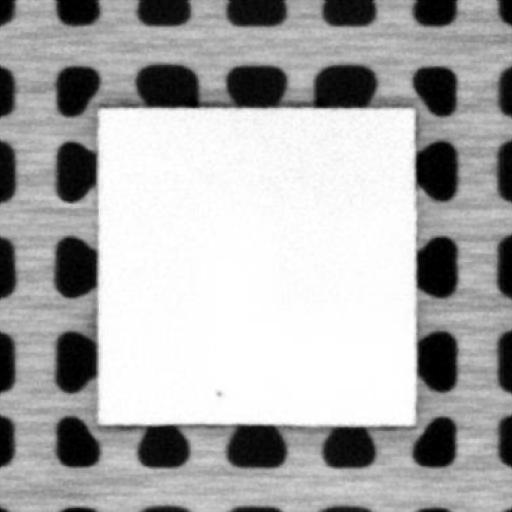DIE_INK: (211, 385, 222, 397)
